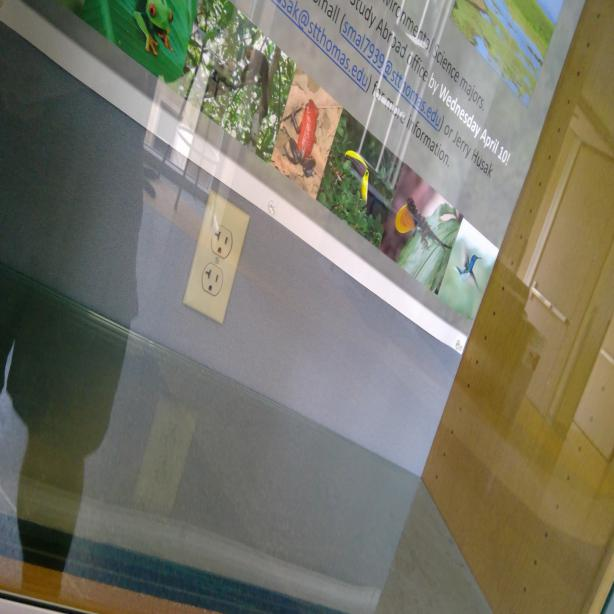typeb: (211, 226, 236, 260), (204, 266, 220, 295)
